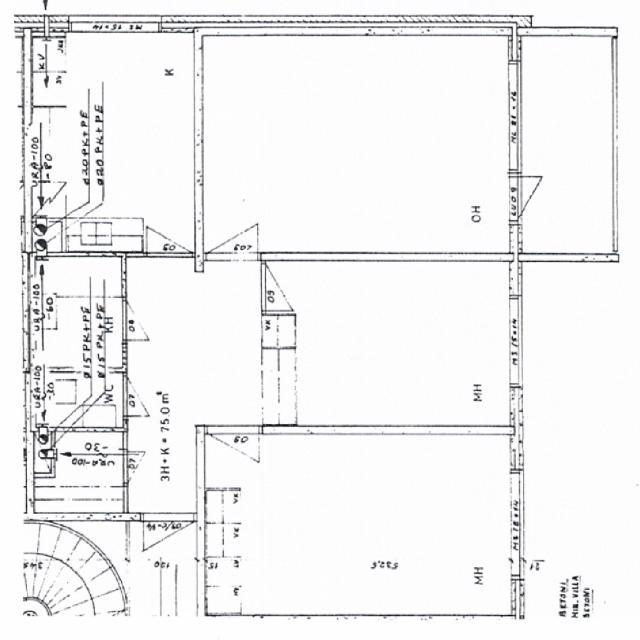door: (207, 425, 259, 487), (143, 512, 193, 572), (205, 199, 257, 256), (261, 263, 313, 310), (508, 177, 563, 220), (146, 206, 192, 256), (123, 375, 168, 416), (123, 299, 167, 340), (123, 451, 158, 482)
